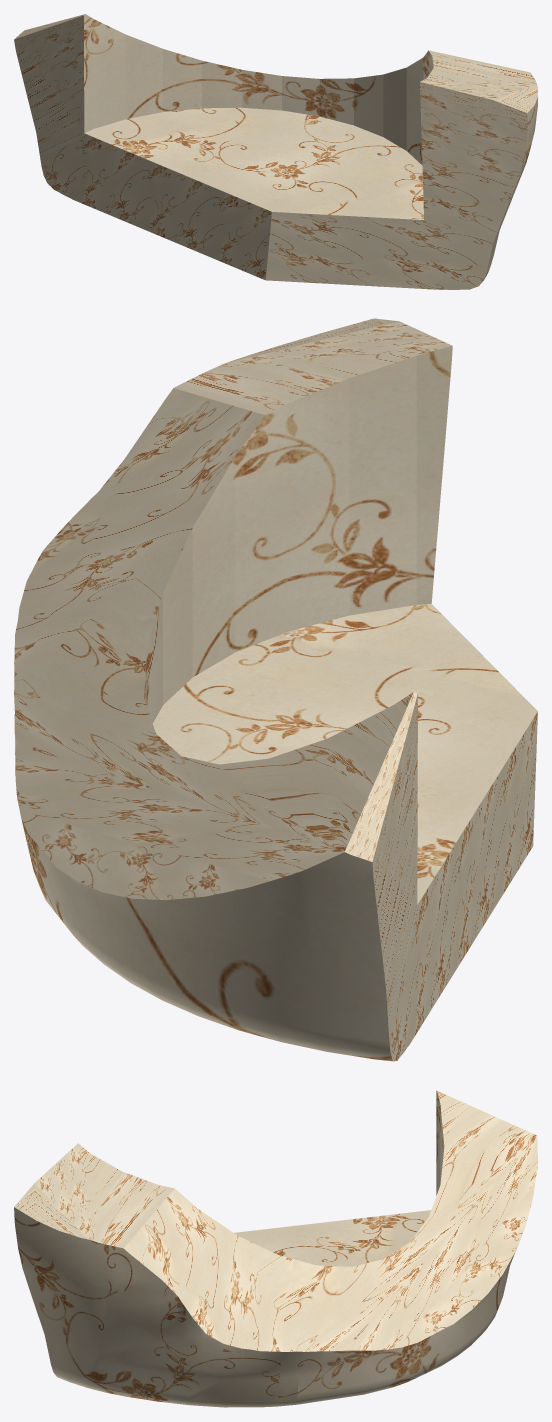
3 renders of one model, top to bottom at view 1: azimuth 30°, elevation 25°; view 2: azimuth 150°, elevation 25°; view 3: azimuth 270°, elevation 25°, orthographic. The views are drawn at different scales.
Parts seen in each view (by area): view 1: Cylinder_cell.001; view 2: Cylinder_cell.001; view 3: Cylinder_cell.001.
Boxes of the visible parts, x1=… form: Cylinder_cell.001: x1=14, y1=14, x2=537, y2=289; Cylinder_cell.001: x1=14, y1=318, x2=537, y2=1061; Cylinder_cell.001: x1=14, y1=1090, x2=537, y2=1407.
Bounding box in the file's own units: 1.25 × 0.7415 × 1.63.
Materials: 1 (1 with a texture image).
